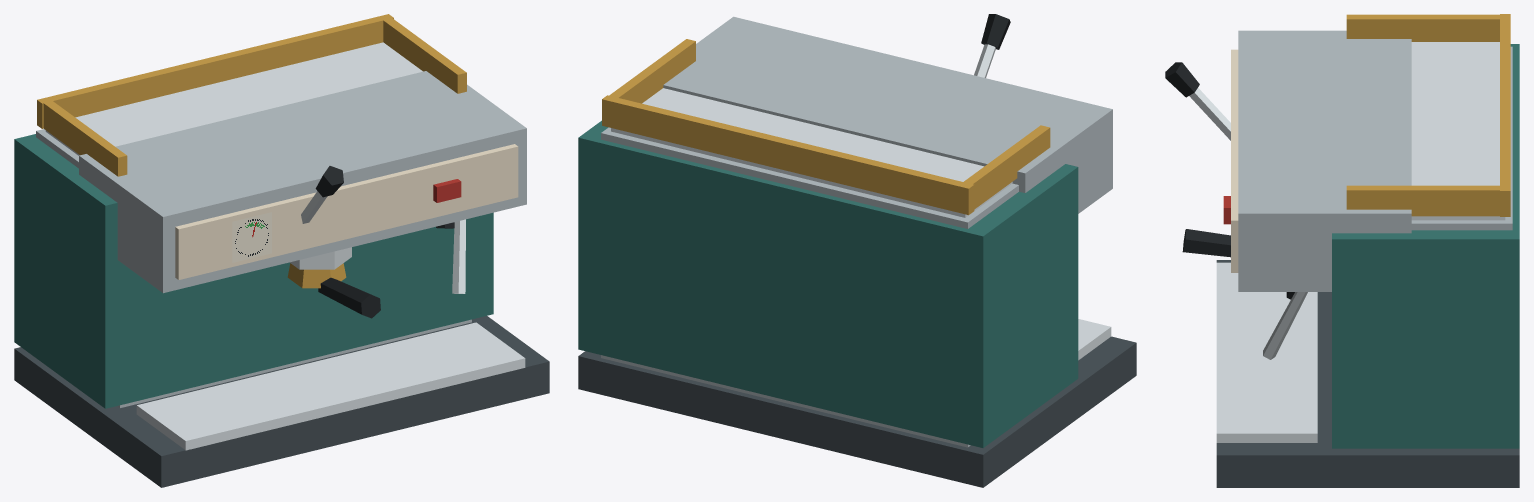
The model's file is espresso_machine.glb.
The picture shows the model from 3 angles, left to right: view 1: azimuth 30°, elevation 25°; view 2: azimuth 150°, elevation 25°; view 3: azimuth 270°, elevation 25°; orthographic projection. The views are drawn at different scales.
Visible parts, largest first — view 1: Espresso_Body, Espresso_Lever; view 2: Espresso_Body, Espresso_Lever; view 3: Espresso_Body, Espresso_Lever.
Part boxes in pixels (box(x1,y1,x2,y2)): Espresso_Body: box(14, 14, 549, 487); Espresso_Lever: box(301, 166, 343, 223); Espresso_Body: box(578, 16, 1136, 487); Espresso_Lever: box(974, 14, 1010, 77); Espresso_Body: box(1182, 14, 1519, 487); Espresso_Lever: box(1165, 62, 1230, 140).
Bounding box in the file's own units: 0.64 × 0.4689 × 0.4912.
Materials: 1 (1 with a texture image).
